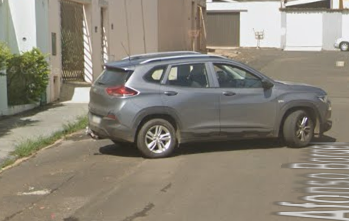car: (88, 38, 337, 164)
